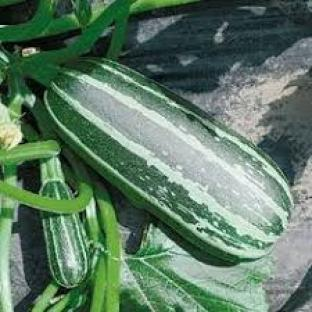Zucchini: (46, 60, 292, 260), (42, 213, 88, 288)
